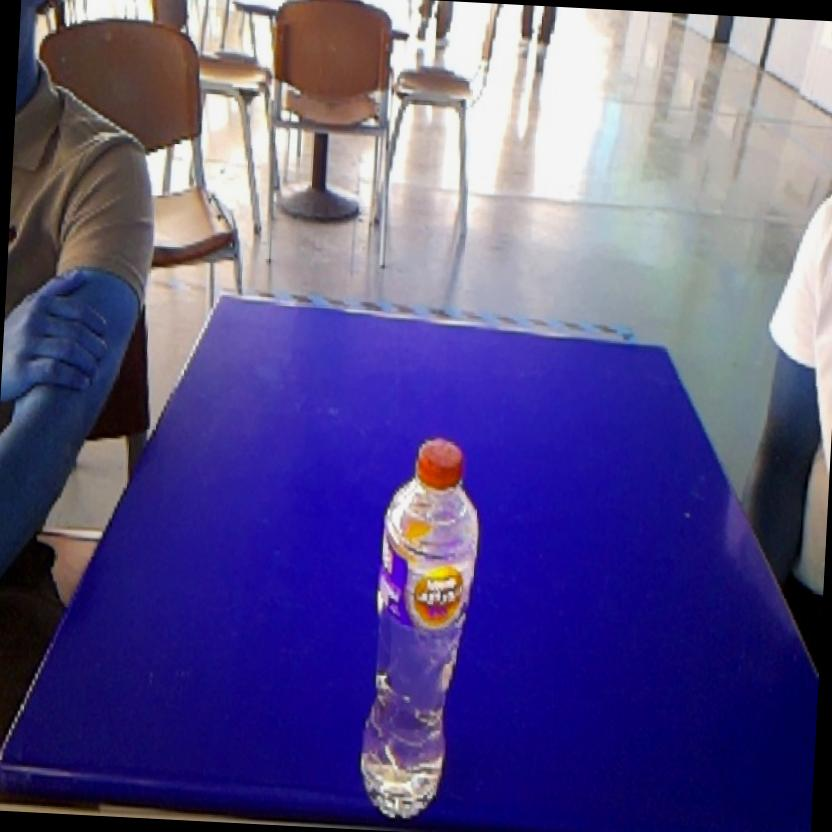good: (346, 424, 490, 832)
